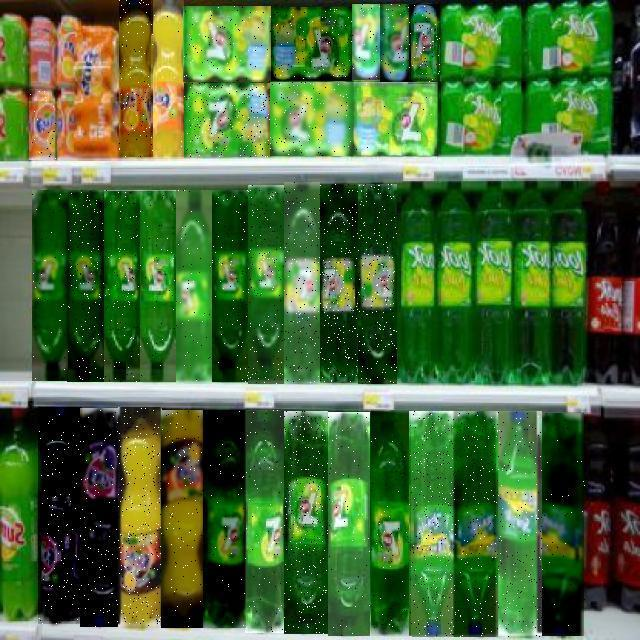Drinks: (538, 413, 586, 636), (496, 412, 542, 638), (453, 411, 498, 637), (284, 411, 328, 634), (118, 408, 162, 628), (38, 407, 82, 624), (412, 411, 454, 637), (372, 410, 414, 636), (328, 412, 370, 636), (161, 410, 204, 628), (203, 410, 246, 628), (80, 408, 120, 627), (245, 410, 284, 633), (358, 184, 397, 384), (320, 184, 358, 382), (285, 182, 321, 384), (248, 185, 284, 384), (139, 190, 176, 382), (103, 190, 140, 382), (67, 190, 104, 382), (176, 190, 212, 384), (212, 190, 248, 382), (32, 190, 68, 381), (183, 6, 271, 82), (184, 83, 270, 157), (353, 82, 438, 156), (270, 82, 353, 156), (270, 7, 352, 81), (119, 0, 153, 157), (151, 0, 184, 158), (408, 4, 440, 84), (380, 4, 409, 82), (352, 5, 380, 81), (29, 89, 57, 160)
